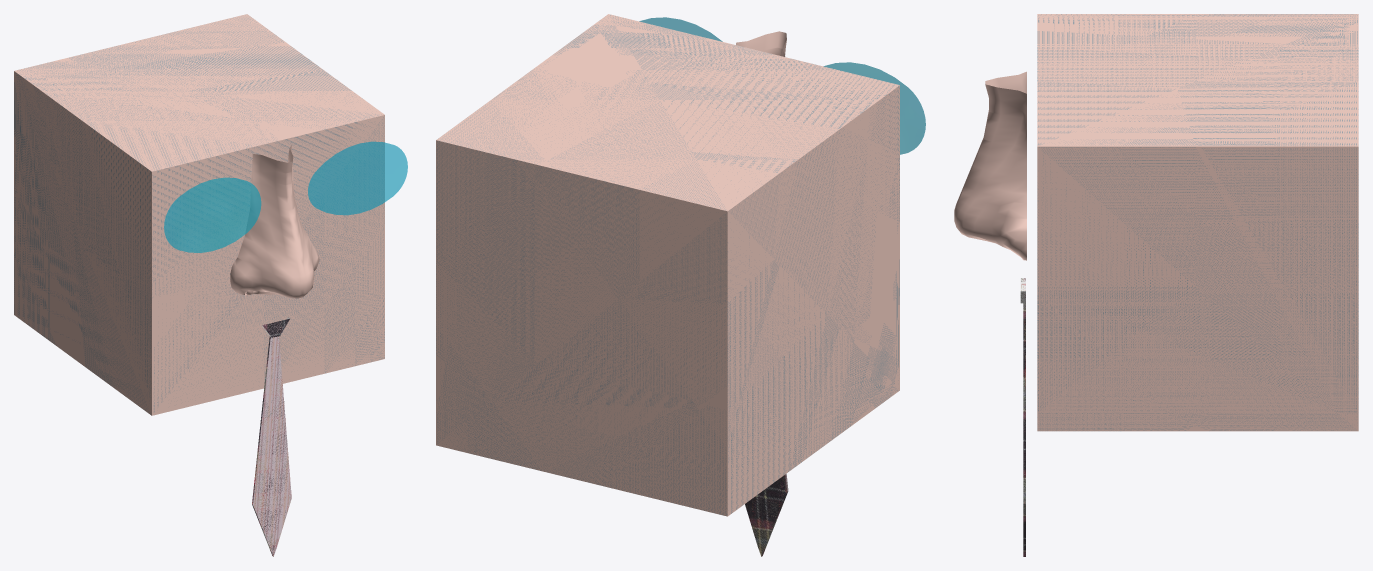
The model's file is intern.dae.
3 views of the same model, side by side, from view 1: azimuth 30°, elevation 25°; view 2: azimuth 150°, elevation 25°; view 3: azimuth 270°, elevation 25° (orthographic). The views are drawn at different scales.
Visible parts, largest first — view 1: SketchUp (×4), group_0; view 2: SketchUp (×4), group_0; view 3: SketchUp (×2), group_0.
Part boxes in pixels (bbox=[...]): SketchUp (×4): bbox=[14, 14, 407, 415]; group_0: bbox=[253, 336, 291, 556]; SketchUp (×4): bbox=[436, 14, 925, 516]; group_0: bbox=[745, 475, 788, 556]; SketchUp (×2): bbox=[954, 14, 1358, 431]; group_0: bbox=[1023, 303, 1025, 556].
Bounding box in the file's own units: 36.79 × 45.32 × 58.97.
9 materials, 4 textured.
